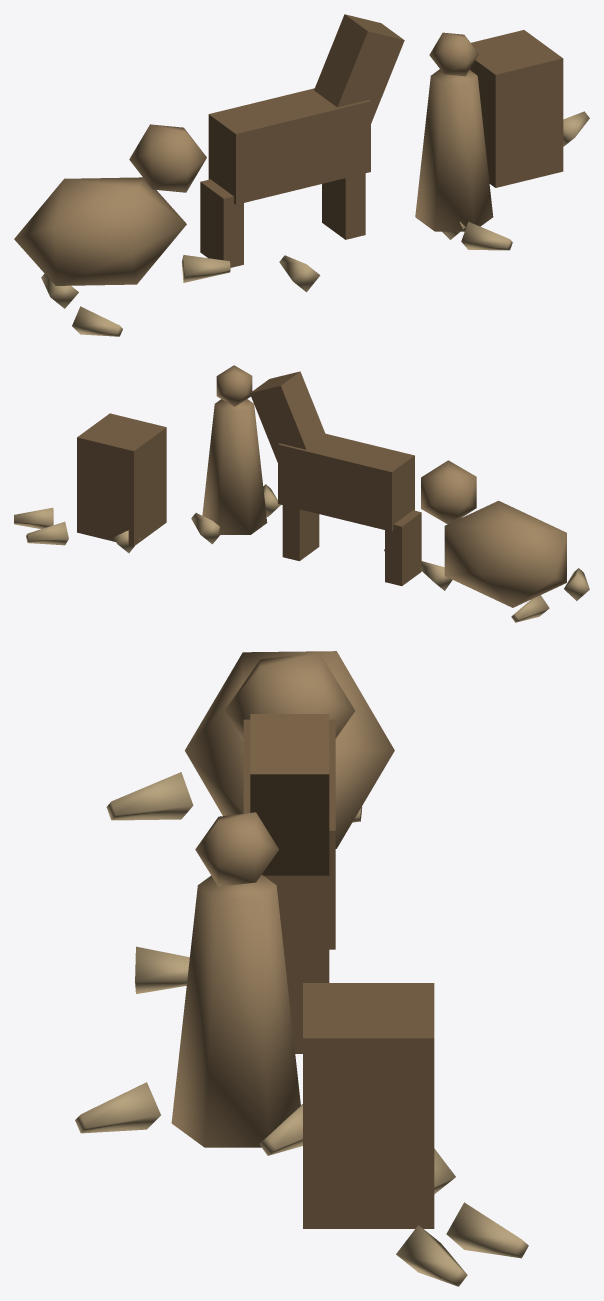
Rendered from wooden_figures.glb.
3 renders of one model, top to bottom at view 1: azimuth 30°, elevation 25°; view 2: azimuth 150°, elevation 25°; view 3: azimuth 270°, elevation 25°, orthographic. The views are drawn at different scales.
Visible parts, largest first — view 1: wooden_figures; view 2: wooden_figures; view 3: wooden_figures.
Part boxes in pixels (x1,y1,x2,y2): wooden_figures: [14, 14, 589, 336]; wooden_figures: [14, 365, 589, 622]; wooden_figures: [75, 651, 528, 1286].
Bounding box in the file's own units: 0.4507 × 0.1505 × 0.1728.
